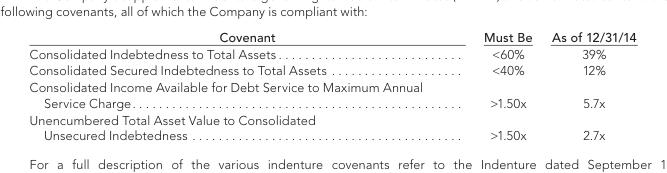table: (28, 28, 635, 142)
table column: (28, 28, 452, 142), (541, 28, 635, 142), (452, 28, 541, 142)
table column header: (28, 28, 635, 44)
table row: (28, 78, 635, 110), (28, 110, 635, 142), (28, 44, 635, 61), (28, 61, 635, 78), (28, 28, 635, 44)
